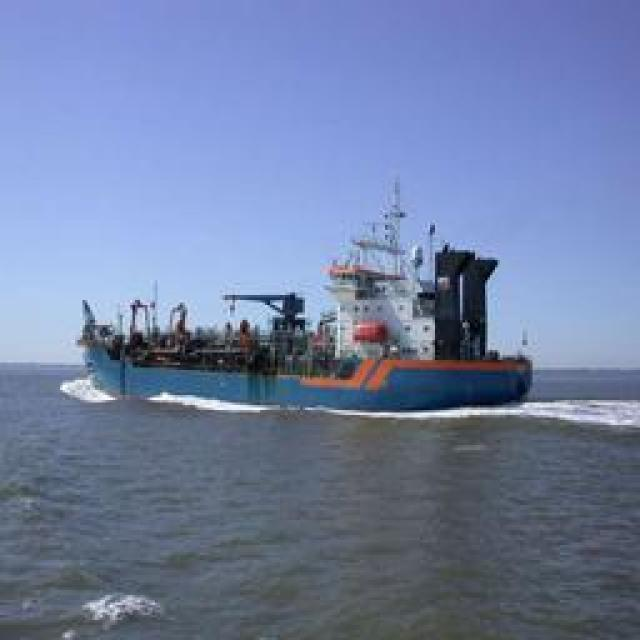CIV_Ship: (90, 172, 532, 416)
